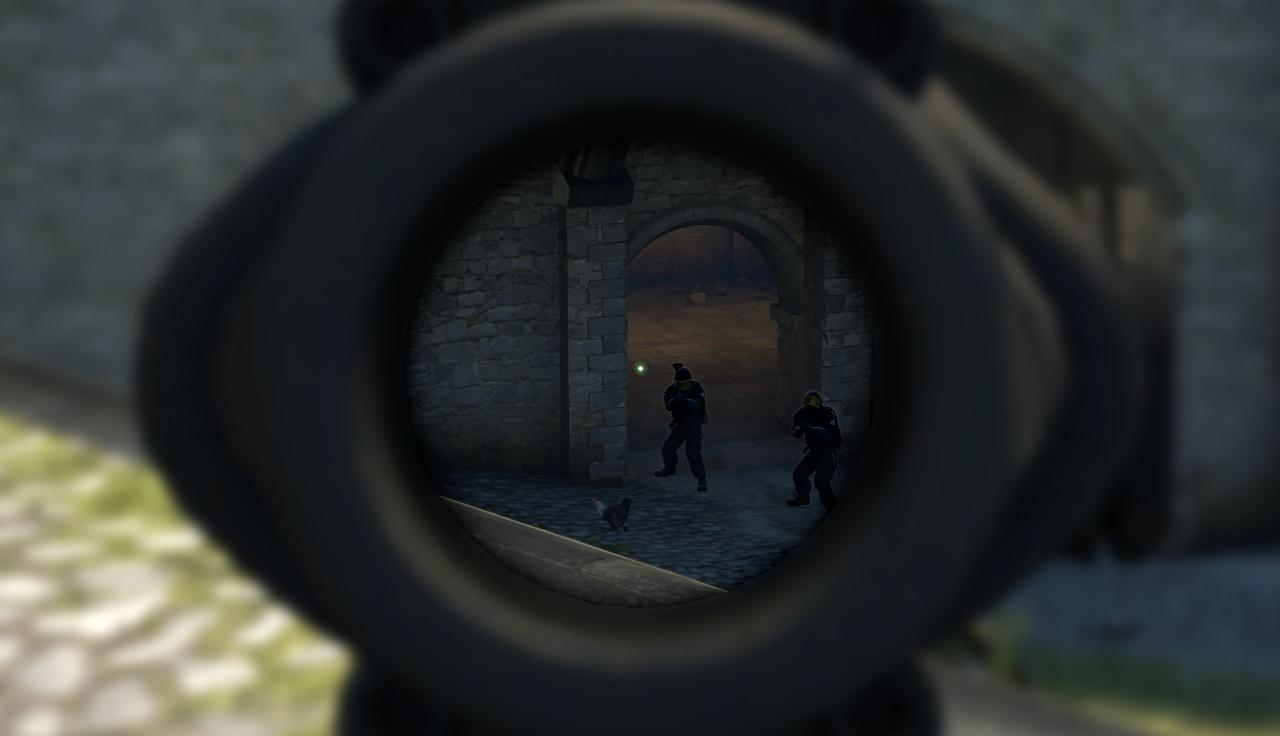ct: (798, 389, 844, 508), (665, 362, 707, 489)
cthead: (802, 392, 823, 415), (674, 366, 692, 390)
